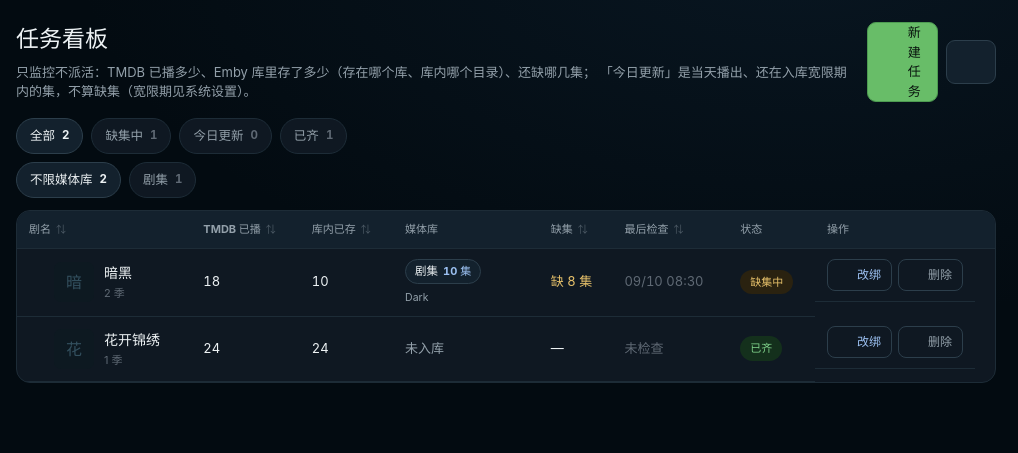
Scenario: TaskTrackingBoard › surfaces a failure message when the delete is rejected by the server
The width and height of the screenshot is (1018, 453).
Click the button with aria-label "删除任务 暗黑". click: (930, 274)
box: [898, 258, 963, 290]
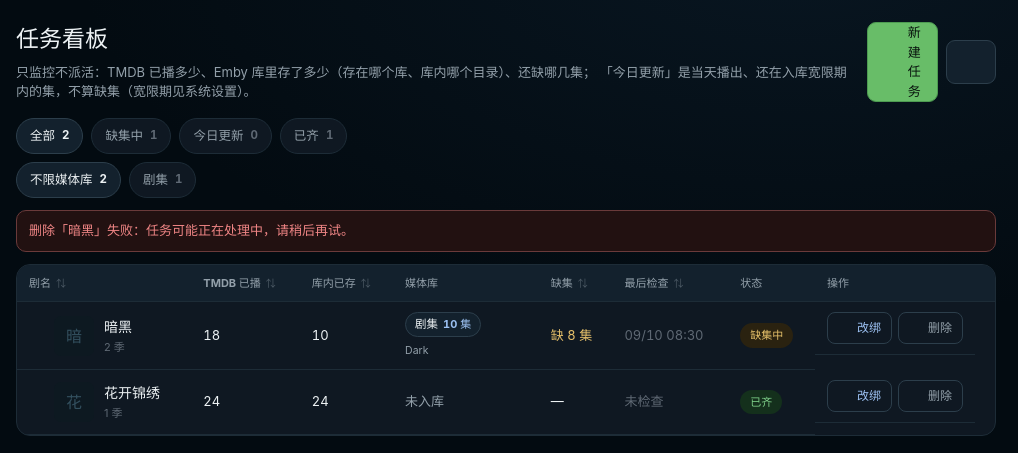
Expected: the message shows "删除「暗黑」失败", [29, 222, 354, 238]
